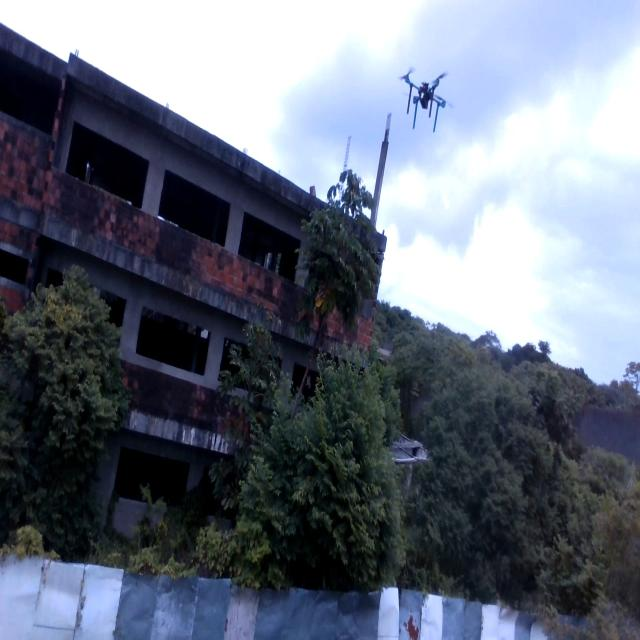-uav-: (393, 50, 459, 140)
